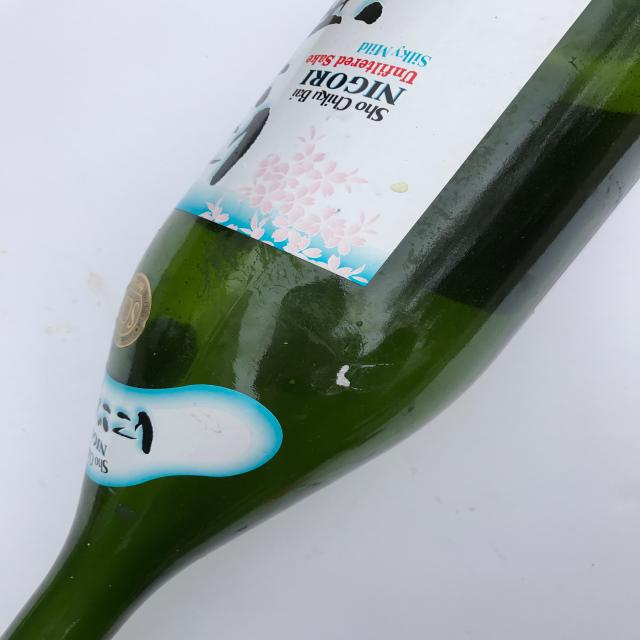glass: (2, 0, 638, 639)
